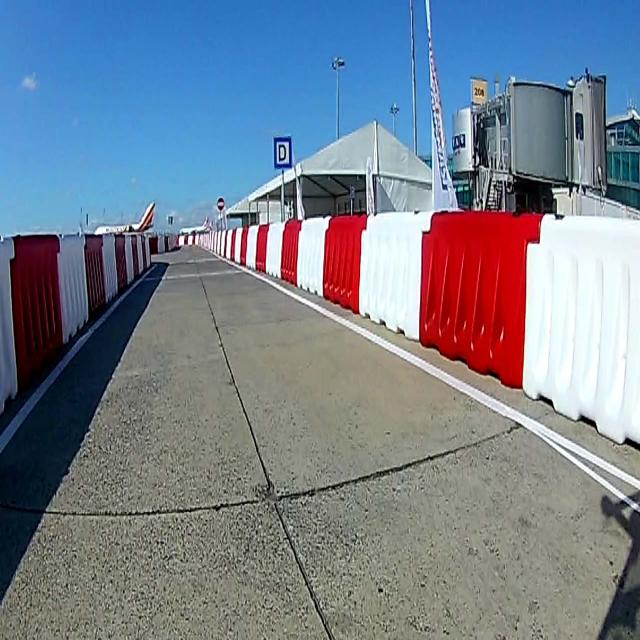durak: (273, 135, 293, 170)
girisyok: (217, 196, 225, 212)
